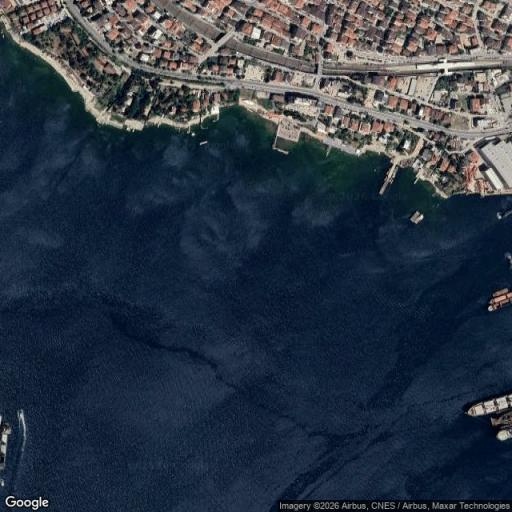ship: (467, 394, 511, 415), (0, 415, 11, 469), (488, 288, 511, 311), (490, 410, 512, 428), (496, 428, 511, 440), (411, 211, 423, 223), (497, 209, 511, 219), (392, 166, 398, 178), (200, 141, 208, 146)
